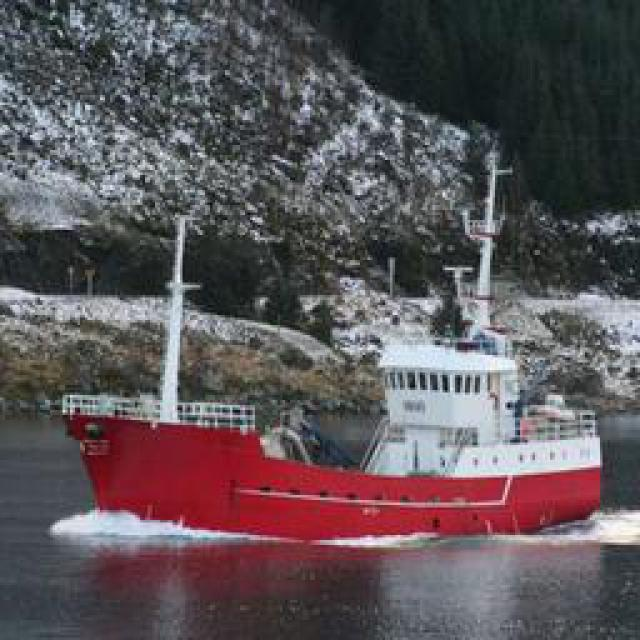Ship: (65, 363, 598, 541)
